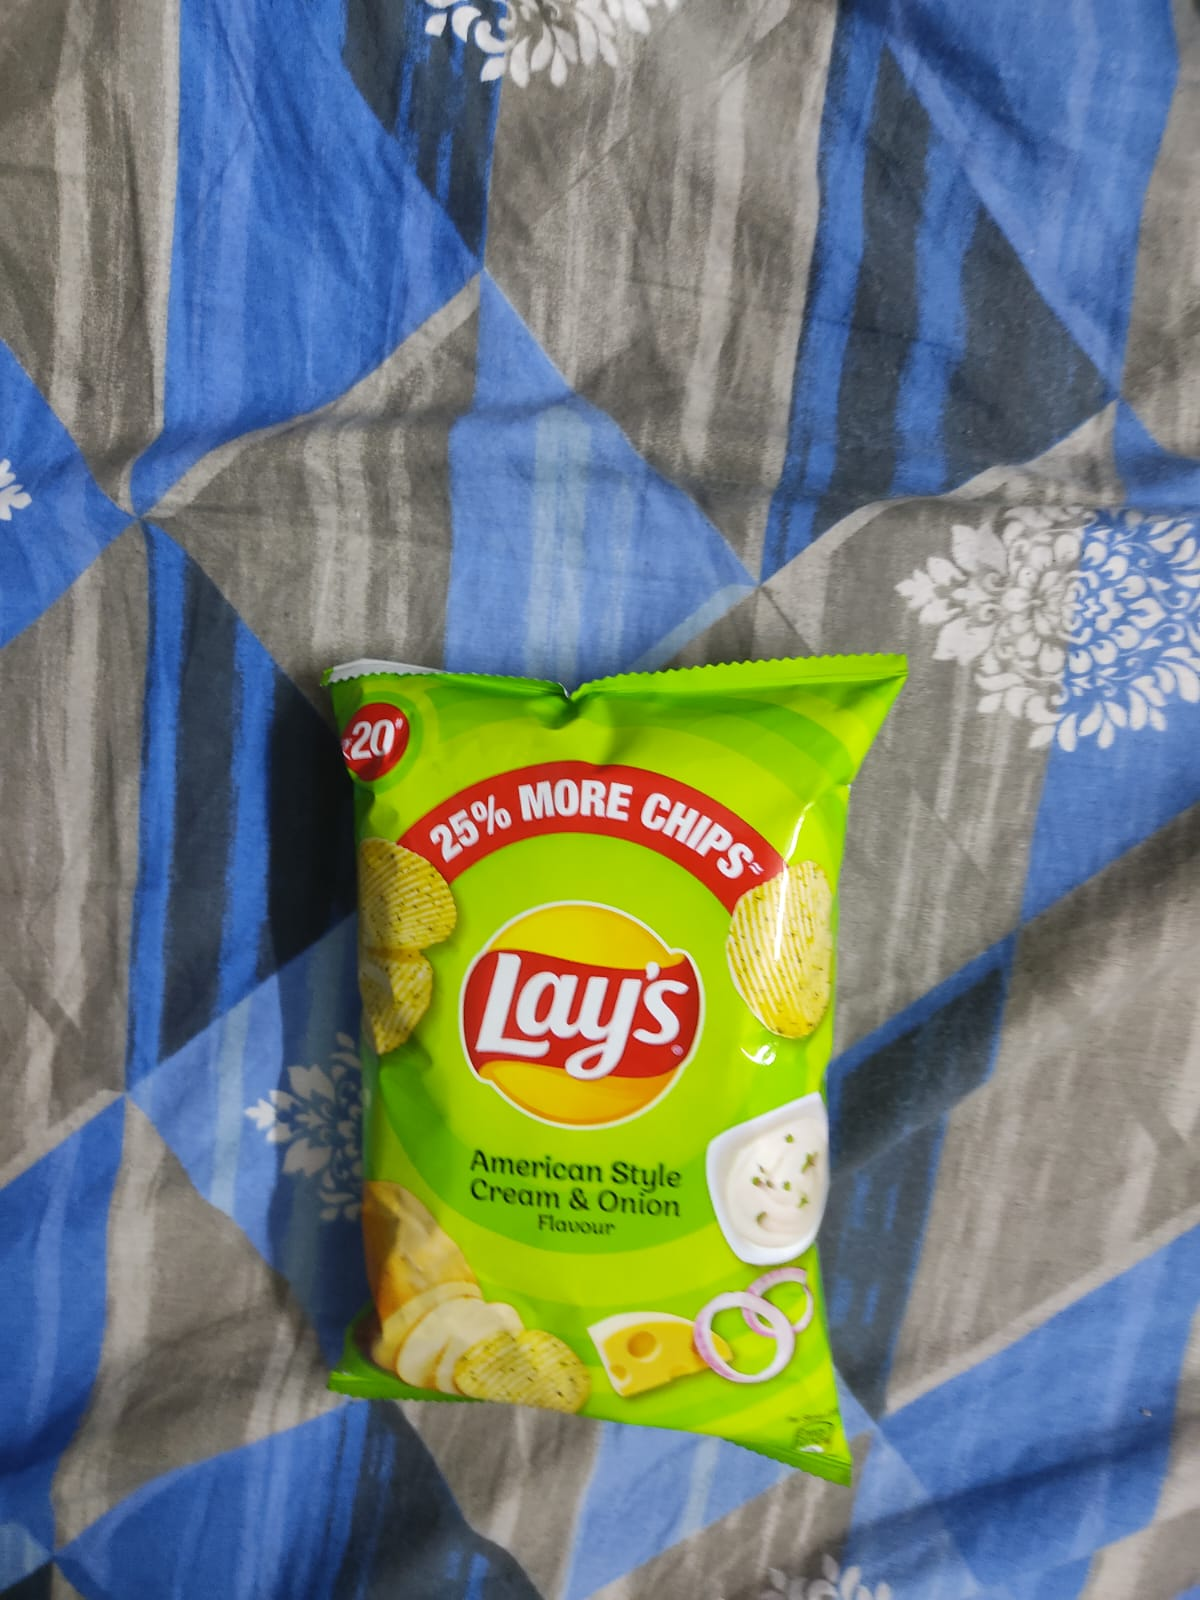020_GreenLays: (342, 690, 836, 1432)
